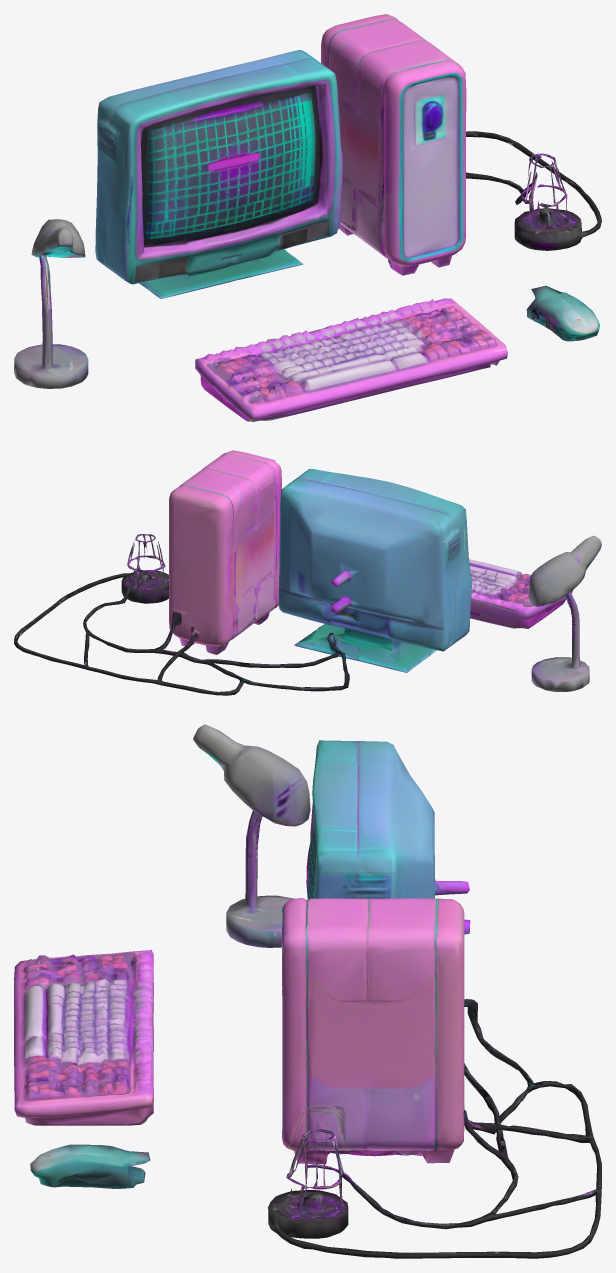
Rendered from computer.glb.
3 views of the same model, one above another, from view 1: azimuth 30°, elevation 25°; view 2: azimuth 150°, elevation 25°; view 3: azimuth 270°, elevation 25° (orthographic). The views are drawn at different scales.
Bounding box in the file's own units: 1.99 × 0.6862 × 1.42.
Materials: 1 (1 with a texture image).
